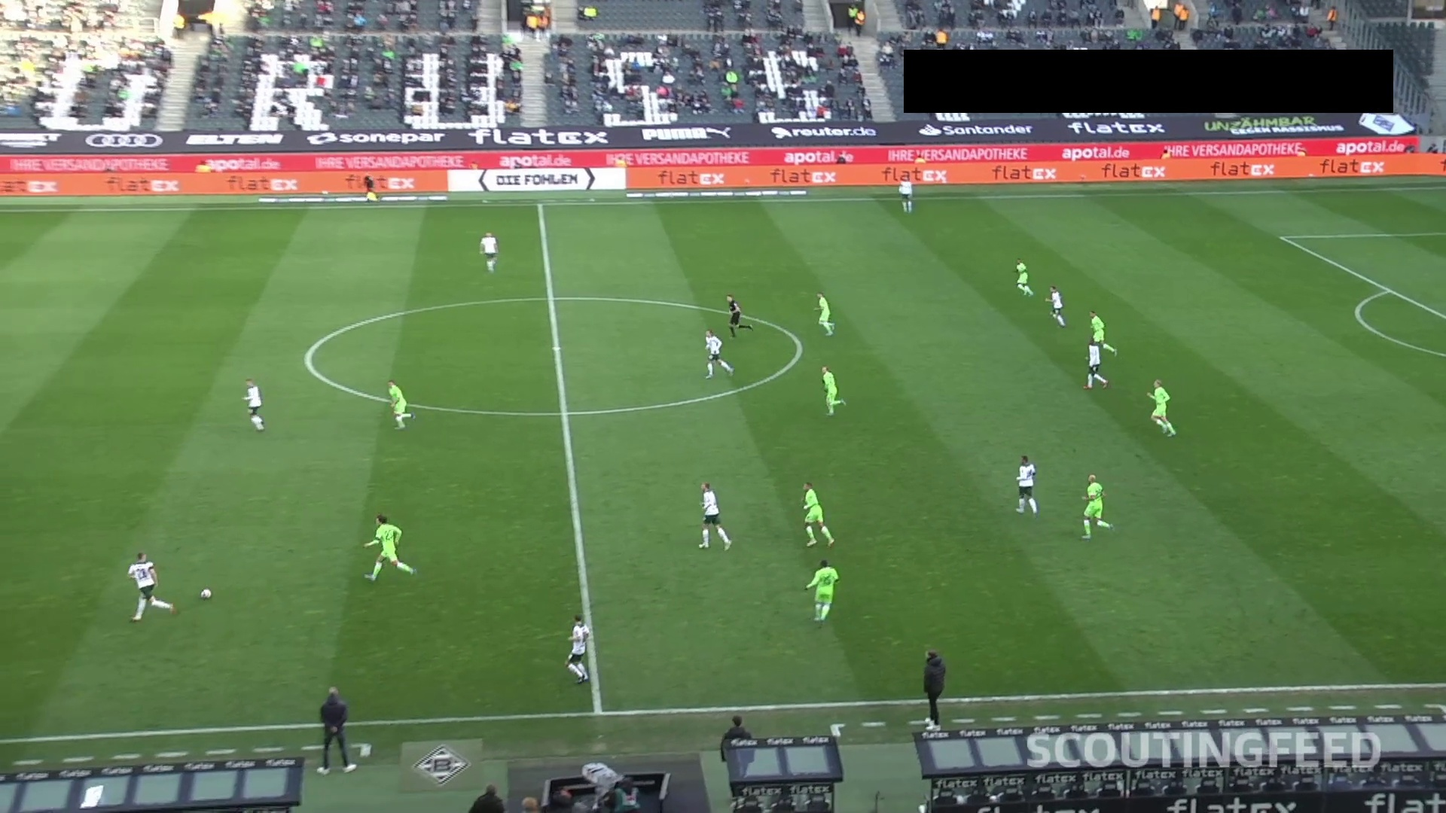ball: (174, 455, 202, 472)
player: (860, 390, 933, 472), (354, 325, 427, 406), (1048, 317, 1121, 398), (571, 398, 643, 480), (687, 333, 759, 415), (181, 358, 253, 439), (427, 260, 499, 341), (904, 236, 976, 317), (976, 480, 1048, 561), (1121, 244, 1193, 325), (0, 236, 65, 317)
referee: (766, 301, 824, 382)
